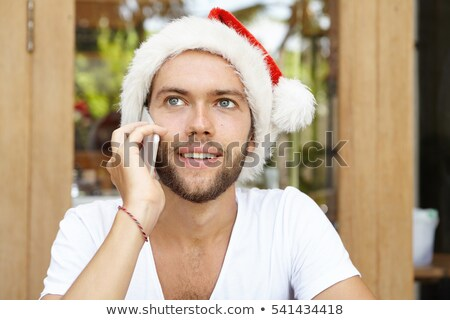phone: (114, 104, 163, 176)
talk: (102, 77, 255, 215)
